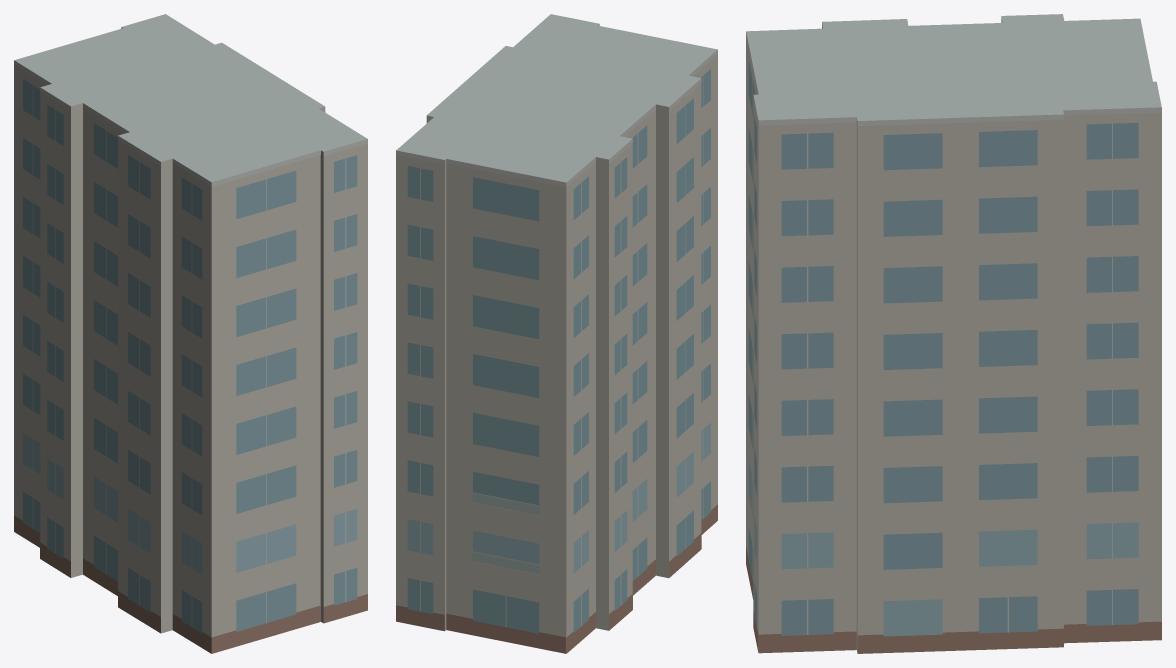
File: survey-upis-33047056.glb
3 renders of one model, left to right at view 1: azimuth 30°, elevation 25°; view 2: azimuth 150°, elevation 25°; view 3: azimuth 270°, elevation 25°, orthographic. The views are drawn at different scales.
Visible parts, largest first — view 1: survey-upis-33047056.tmp; view 2: survey-upis-33047056.tmp; view 3: survey-upis-33047056.tmp.
Part boxes in pixels (x1,y1,x2,y2): survey-upis-33047056.tmp: (14,14,367,653); survey-upis-33047056.tmp: (396,14,717,653); survey-upis-33047056.tmp: (746,14,1161,653).
Size of the model in its own units: 10.83 by 25.1 by 17.76.
